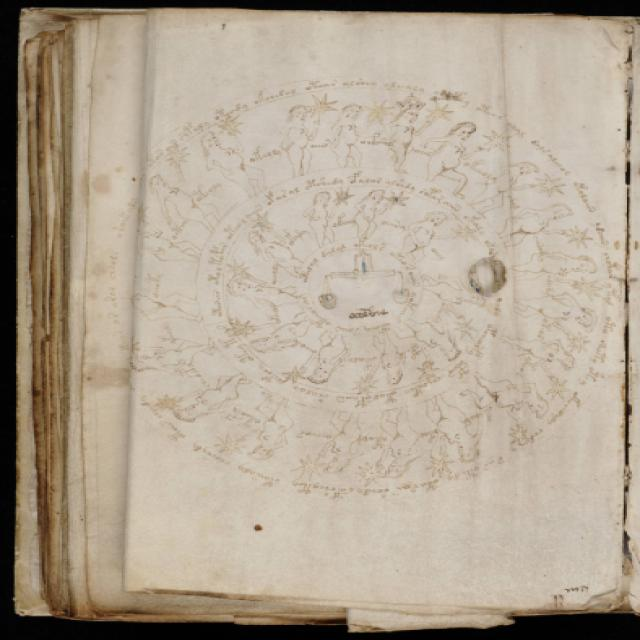ornament_circle: (91, 72, 624, 502)
